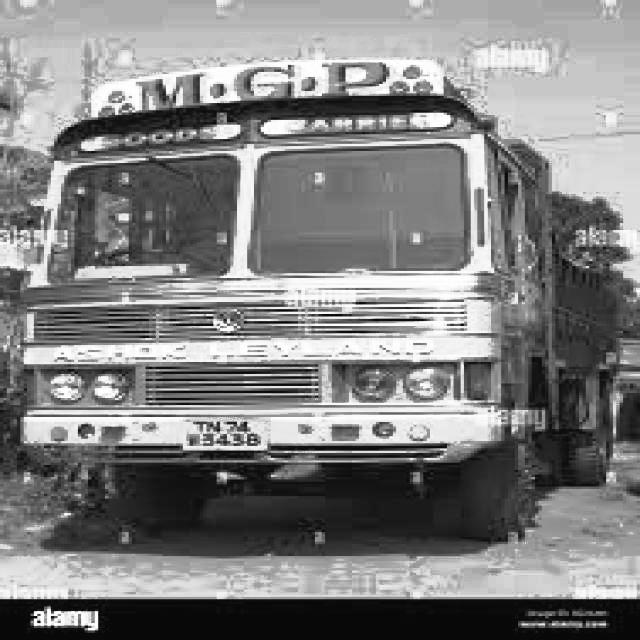HCV: (19, 42, 633, 560)
